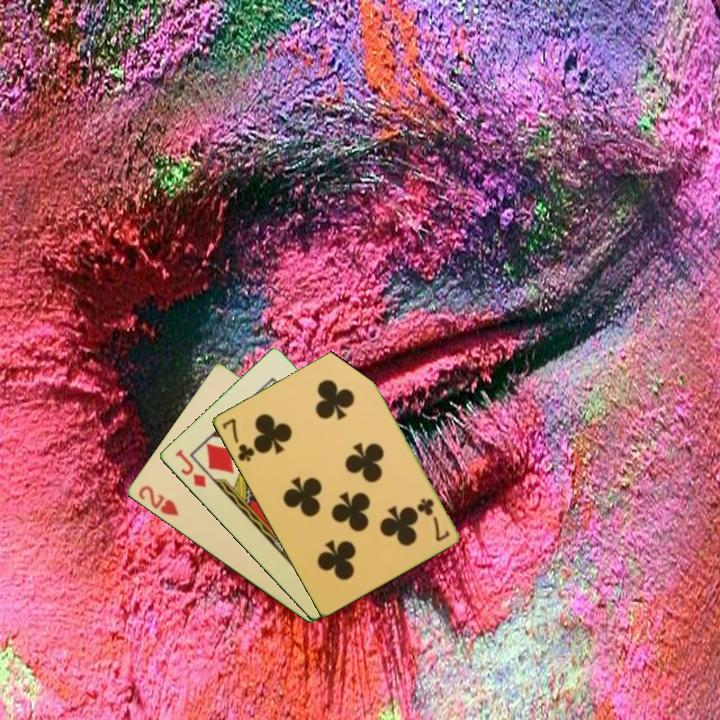2h: (134, 482, 181, 519)
7c: (218, 415, 257, 465), (413, 494, 452, 544)
Jd: (171, 446, 209, 491)
